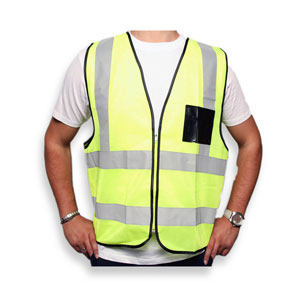Reflective vest: (83, 31, 230, 251)
